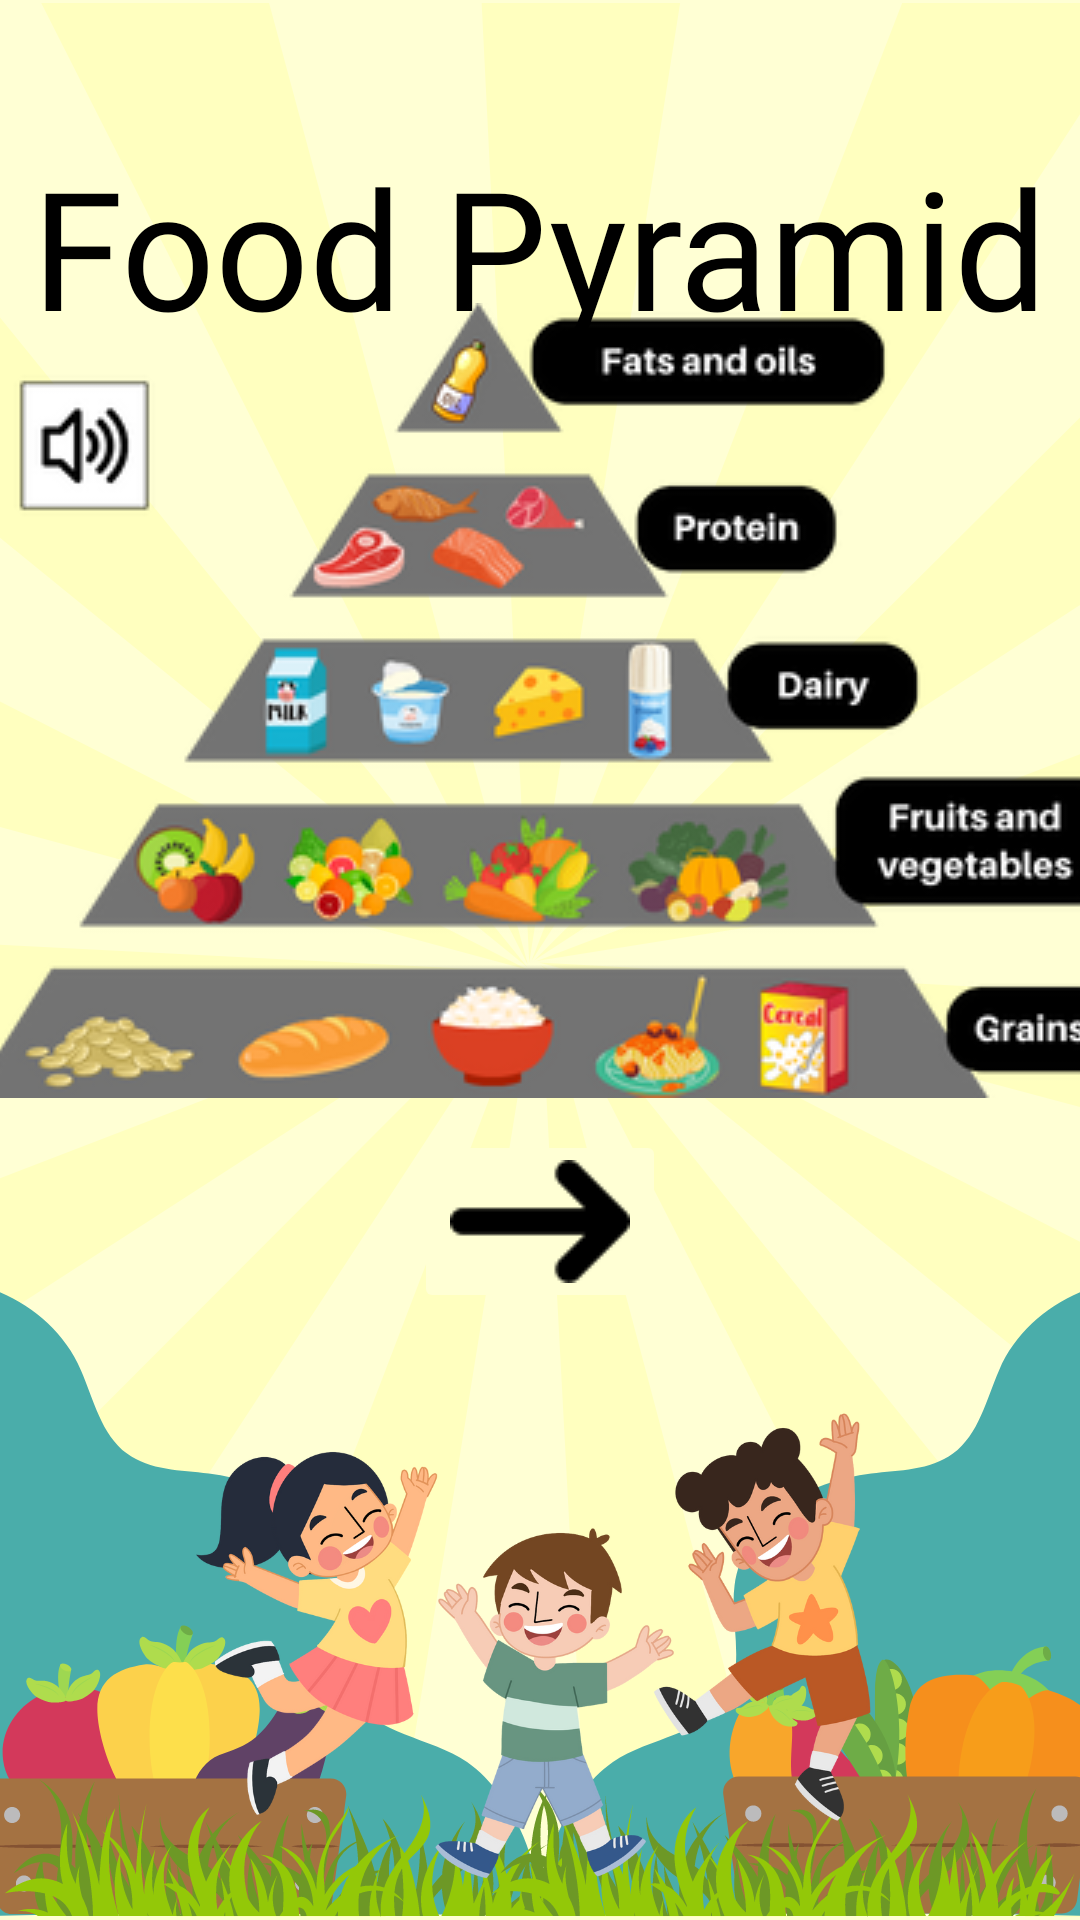

Where icons sit on this 1080 × 1920 app screen, as (x1, y1, x2, y2):
Next button: (450, 1160, 630, 1283)
